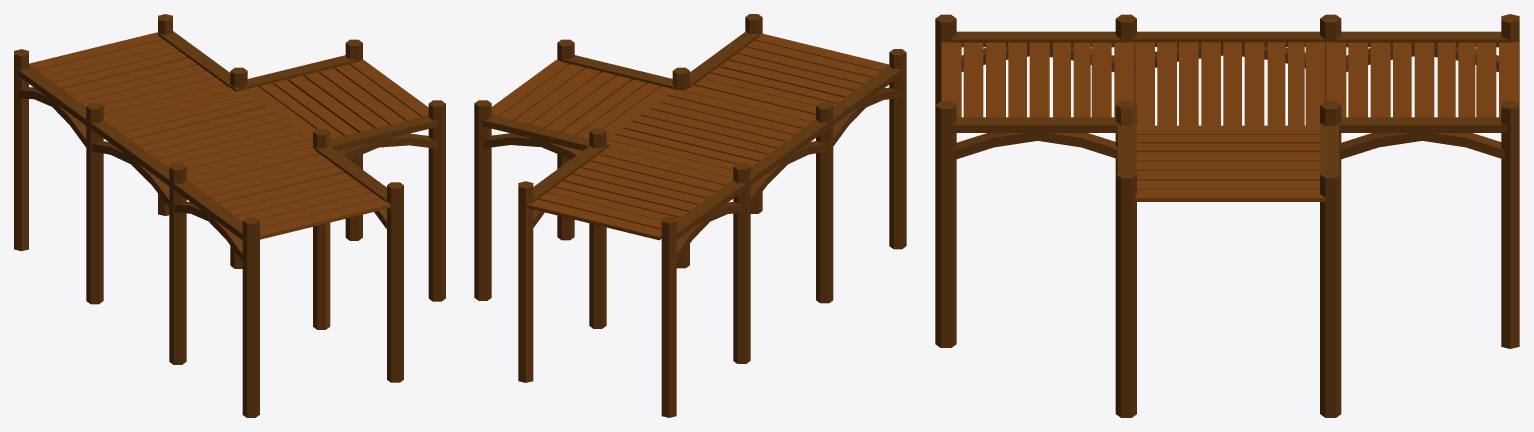
The model's file is Mesh_Dock_t_Section.fbx.
The picture shows the model from 3 angles, left to right: view 1: azimuth 30°, elevation 25°; view 2: azimuth 150°, elevation 25°; view 3: azimuth 270°, elevation 25°; orthographic projection. The views are drawn at different scales.
Parts seen in each view (by area): view 1: Dock_t_Section; view 2: Dock_t_Section; view 3: Dock_t_Section.
Boxes of the visible parts, left/top/right/bottom form: Dock_t_Section: left=14, top=14, right=445, bottom=417; Dock_t_Section: left=474, top=14, right=906, bottom=417; Dock_t_Section: left=935, top=14, right=1519, bottom=417.
Size of the model in its own units: 737 by 502 by 1108.
1 material, 1 textured.
